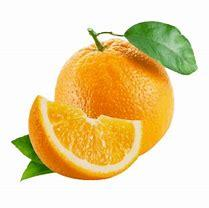orange: (14, 88, 152, 185), (56, 41, 181, 138)
